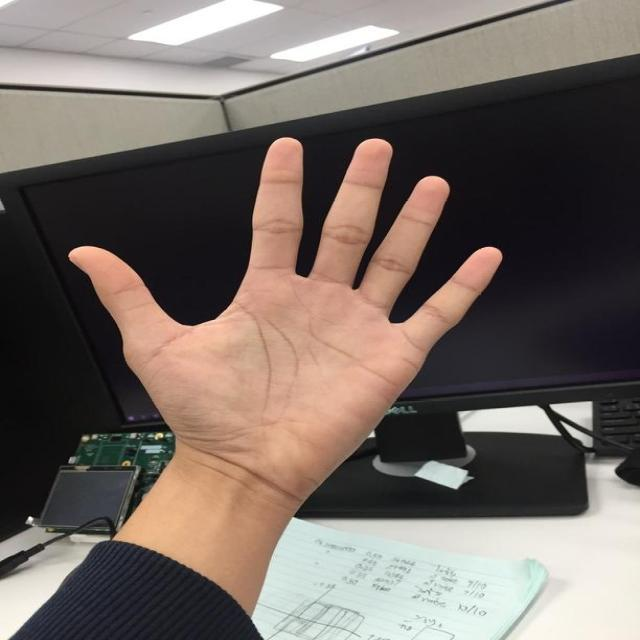no-gloves: (65, 132, 504, 500)
